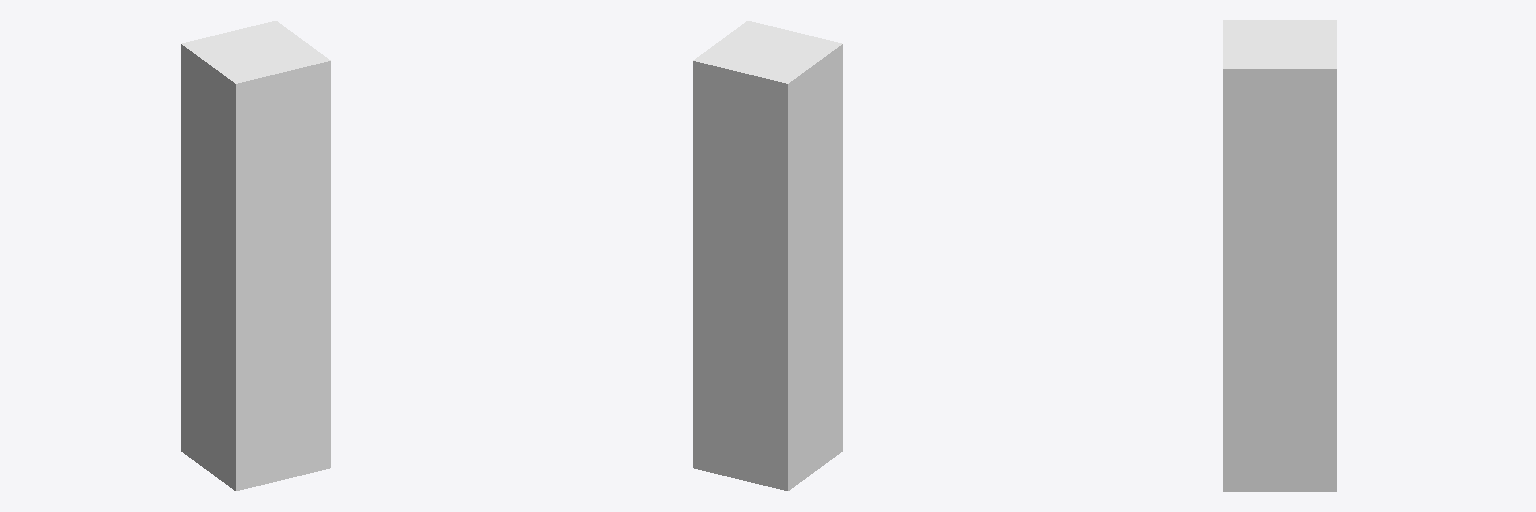
URDF robot description (cube.urdf):
<?xml version="0.0" ?>
<robot name="cube.urdf">
  <link name="baseLink">
    <contact>
      <!--<lateral_friction value="1.0"/>-->
      <lateral_friction value="20.0"/>
      <inertia_scaling value="3.0"/>
    </contact>
    <inertial>
      <origin rpy="0 0 0" xyz="0 0 0"/>
       <!-- mass controls penetration -->
       <!--<mass value=".1"/>-->
       <mass value=".7"/>
       <inertia ixx="1" ixy="0" ixz="0" iyy="1" iyz="0" izz="1"/>
    </inertial>
    <visual>
      <origin rpy="0 0 0" xyz="0 0 0"/>
      <geometry>
				<mesh filename="cube.obj" scale="0.044 0.044 0.18"/>
      </geometry>
       <material name="white">
        <color rgba="1 1 1 1"/>
      </material>
    </visual>
    <collision>
      <origin rpy="0 0 0" xyz="0 0 0"/>
      <geometry>
	 	<box size="0.044 0.044 0.18"/>
      </geometry>
    </collision>
  </link>
</robot>

--- What the picture shows (computed from the rendered views, not written in the file) ---
The picture shows the robot from 3 angles, left to right: view 1: azimuth 30°, elevation 25°; view 2: azimuth 150°, elevation 25°; view 3: azimuth 270°, elevation 25°; orthographic projection.
Robot: cube.urdf — 1 links, 0 joints (none); root link baseLink; default pose: every joint at zero.
Links seen in each view (by area): view 1: baseLink; view 2: baseLink; view 3: baseLink.
Boxes of the visible links, x1,y1,x2,y2 form: baseLink: (181,21,330,490); baseLink: (693,21,842,490); baseLink: (1223,20,1336,491).
Size in the robot's own frame: 0.0022 by 0.0022 by 0.009 metres.
1 mesh visuals loaded from 1 distinct referenced files (1 OBJ).